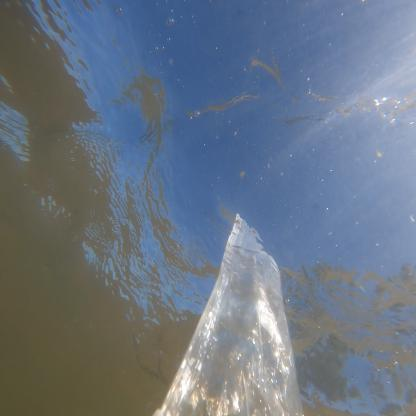Rác: (143, 226, 295, 410)
